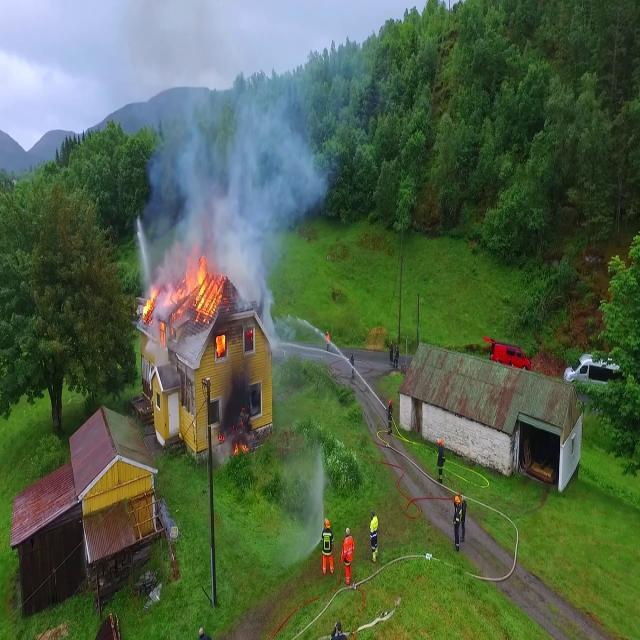Fire: (163, 252, 227, 326), (141, 286, 157, 324)
Smoke: (140, 34, 322, 304)
